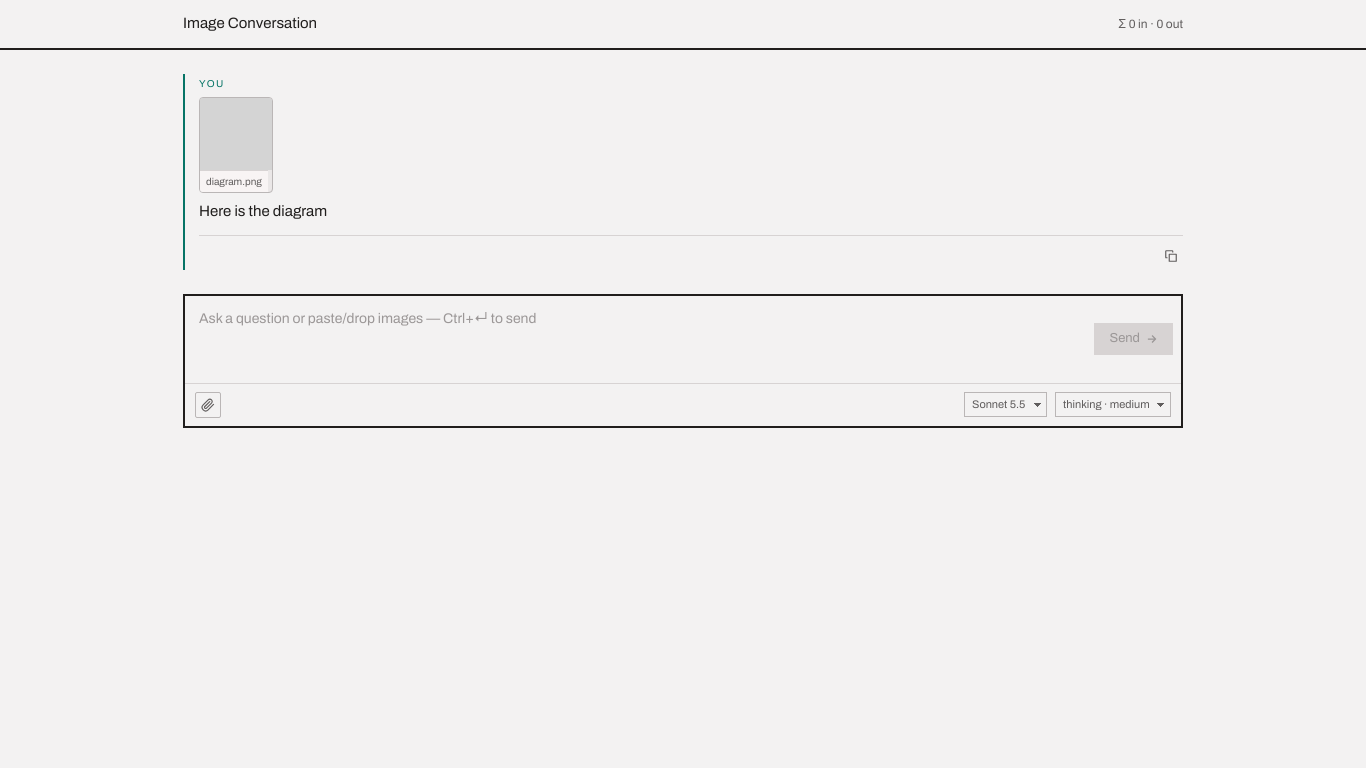
Test: ChatView Image UI & Interactions › renders attached images on user messages and opens lightbox on click
Expected: the text "diagram.png" is shown, x1=200 y1=170 x2=268 y2=192
// Click card to open lightbox
Click the button with class "user-image-card" at point(236, 145), box x1=199 y1=96 x2=273 y2=193
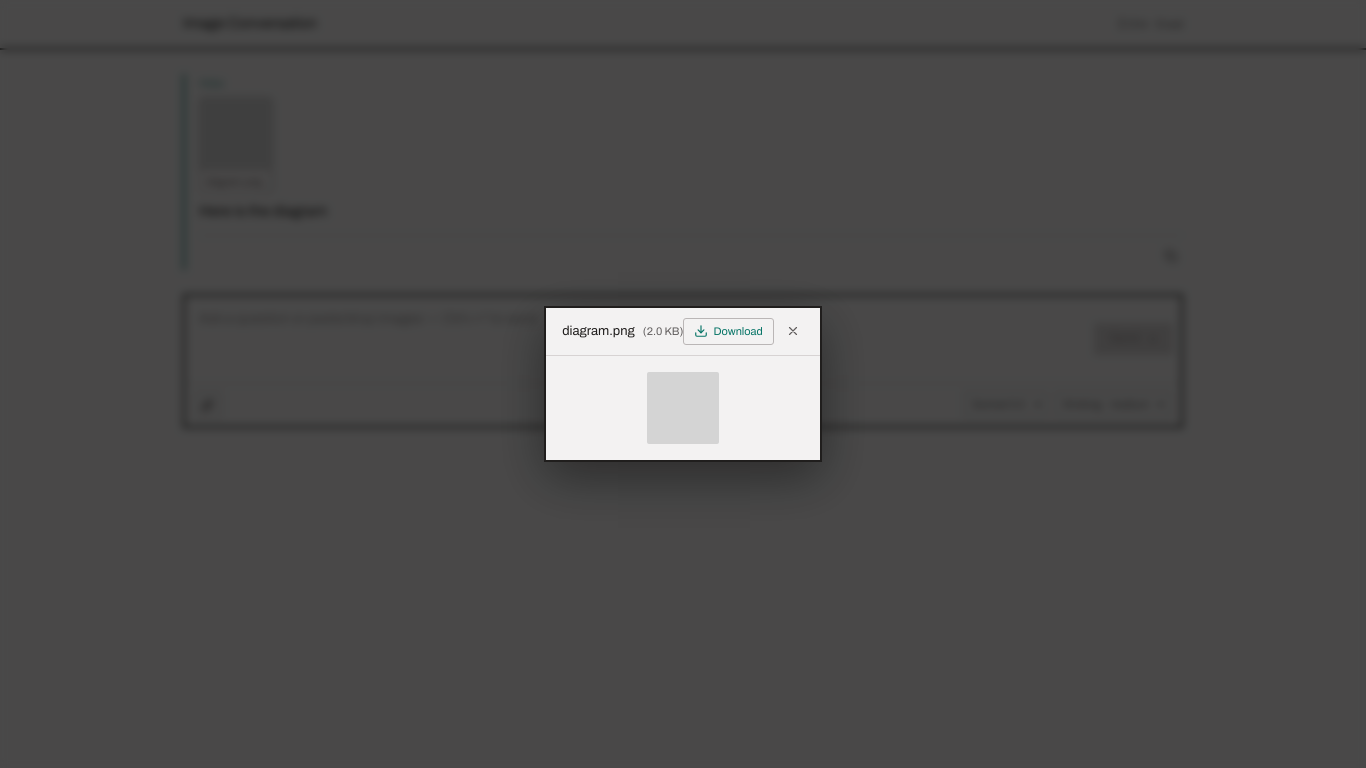
Expected: the element with class "image-lightbox-modal" is shown, x1=544 y1=306 x2=822 y2=462
Expected: the text with class "lightbox-name" reads "diagram.png", x1=562 y1=324 x2=635 y2=338
Expected: the text with class "lightbox-meta" reads "(2.0 KB)", x1=647 y1=325 x2=680 y2=337
// Press Escape to close lightbox
Press Escape
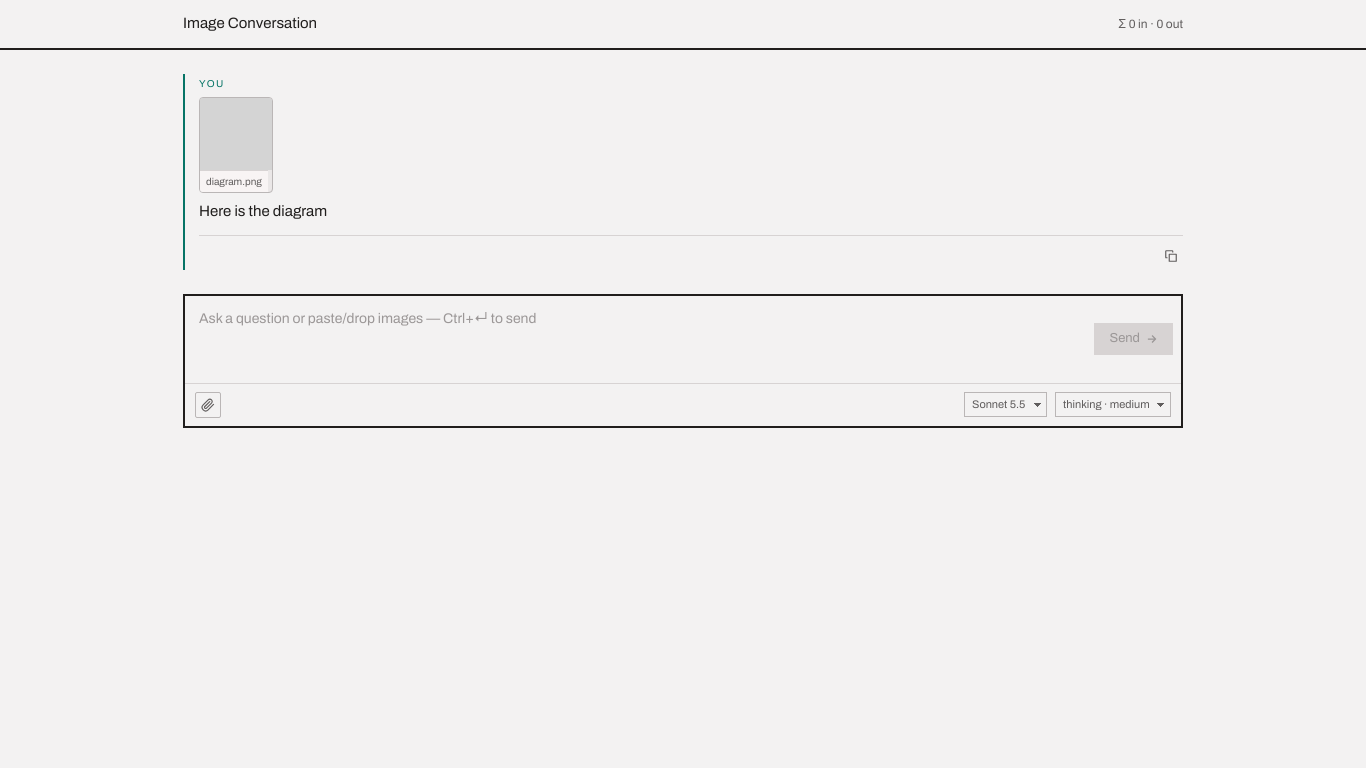
Expected: the element with class "image-lightbox-modal" is gone
